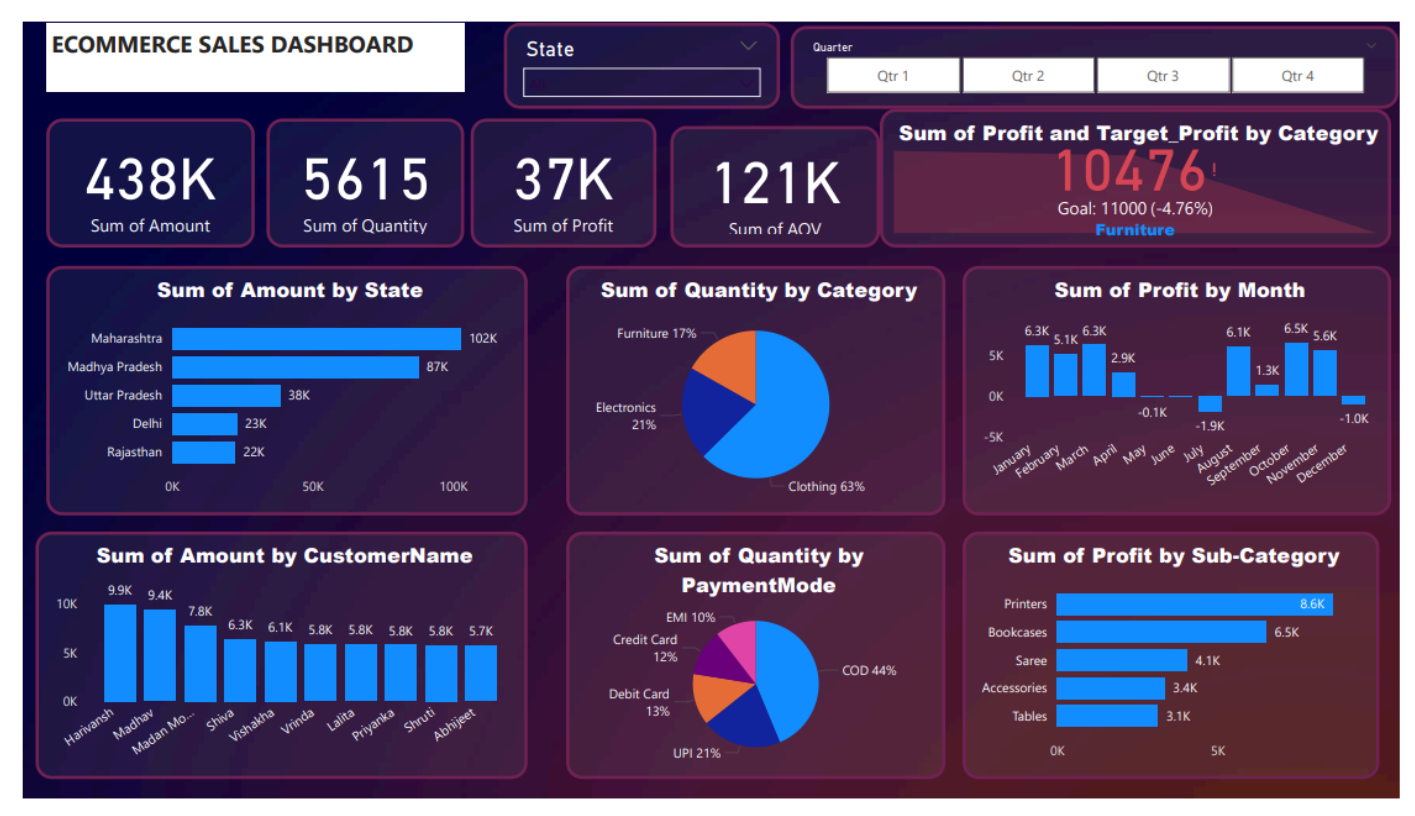

The dashboard page shown, as its layout file describes it:
{"tool":"powerbi","page":{"name":"Page 1","canvas":[1280,720],"ordinal":0},"visuals":[{"type":"barChart","fields":{"Y":["Sum(sales_db details.Profit)"],"Category":["sales_db details.Sub-Category"]},"box":[874.1,473.4,388.3,229.2],"z":0},{"type":"pieChart","fields":{"Category":["sales_db details.Category"],"Y":["Sum(sales_db details.Quantity)"]},"box":[505,226.4,352.7,231.9],"z":1000},{"type":"pieChart","fields":{"Y":["Sum(sales_db details.Quantity)"],"Category":["sales_db details.PaymentMode"]},"box":[505,473.4,352.7,229.2],"z":2000},{"type":"barChart","fields":{"Category":["sales_db orders.State"],"Y":["Sum(sales_db details.Amount)"]},"box":[20.6,226.4,448.7,231.9],"z":3000},{"type":"card","fields":{"Values":["Sum(sales_db details.Amount)"]},"box":[20.6,89.2,194.9,119.4],"z":4000},{"type":"card","fields":{"Values":["Sum(sales_db details.Quantity)"]},"box":[226.4,89.2,183.9,119.4],"z":5000},{"type":"card","fields":{"Values":["Sum(sales_db details.Profit)"]},"box":[415.8,89.2,172.9,119.4],"z":6000},{"type":"card","fields":{"Values":["Sum(sales_db details.AOV)"]},"box":[602.4,96.1,194.9,112.5],"z":7000},{"type":"slicer","fields":{"Values":["sales_db orders.State"]},"box":[447.3,0,256.6,79.6],"z":8000},{"type":"slicer","fields":{"Values":["sales_db orders.Order Date.Variation.Date Hierarchy.Quarter"]},"box":[713.6,2.7,566.7,76.8],"z":9000},{"type":"kpi","fields":{"Indicator":["Sum(sales_db details.Profit)"],"TrendLine":["sales_db details.Category"],"Goal":["sales_db details.Target_Profit"]},"box":[797.3,79.6,476.2,129],"z":10000},{"type":"textbox","box":[20.6,0,389.7,64.5],"z":11000},{"type":"columnChart","fields":{"Category":["sales_db orders.CustomerName"],"Y":["Sum(sales_db details.Amount)"]},"box":[11,473.4,458.3,229.2],"z":12000},{"type":"columnChart","fields":{"Category":["sales_db orders.Order Date.Variation.Date Hierarchy.Month"],"Y":["Sum(sales_db details.Profit)"]},"box":[874.1,226.4,399.3,231.9],"z":13000}]}

Visuals, with their boxes in screenshot pixels (x1, y1, x2, y2), scaled from the page's 1280x720 canvas onto the 1415x816 screenshot:
barChart - Sum(sales_db details.Profit) x sales_db details.Sub-Category: [x1=966, y1=537, x2=1396, y2=796]
pieChart - sales_db details.Category x Sum(sales_db details.Quantity): [x1=558, y1=257, x2=948, y2=519]
pieChart - Sum(sales_db details.Quantity) x sales_db details.PaymentMode: [x1=558, y1=537, x2=948, y2=796]
barChart - sales_db orders.State x Sum(sales_db details.Amount): [x1=23, y1=257, x2=519, y2=519]
card - Sum(sales_db details.Amount): [x1=23, y1=101, x2=238, y2=236]
card - Sum(sales_db details.Quantity): [x1=250, y1=101, x2=454, y2=236]
card - Sum(sales_db details.Profit): [x1=460, y1=101, x2=651, y2=236]
card - Sum(sales_db details.AOV): [x1=666, y1=109, x2=881, y2=236]
slicer - sales_db orders.State: [x1=494, y1=0, x2=778, y2=90]
slicer - sales_db orders.Order Date.Variation.Date Hierarchy.Quarter: [x1=789, y1=3, x2=1414, y2=90]
kpi - Sum(sales_db details.Profit) x sales_db details.Category: [x1=881, y1=90, x2=1408, y2=236]
textbox: [x1=23, y1=0, x2=454, y2=73]
columnChart - sales_db orders.CustomerName x Sum(sales_db details.Amount): [x1=12, y1=537, x2=519, y2=796]
columnChart - sales_db orders.Order Date.Variation.Date Hierarchy.Month x Sum(sales_db details.Profit): [x1=966, y1=257, x2=1408, y2=519]
